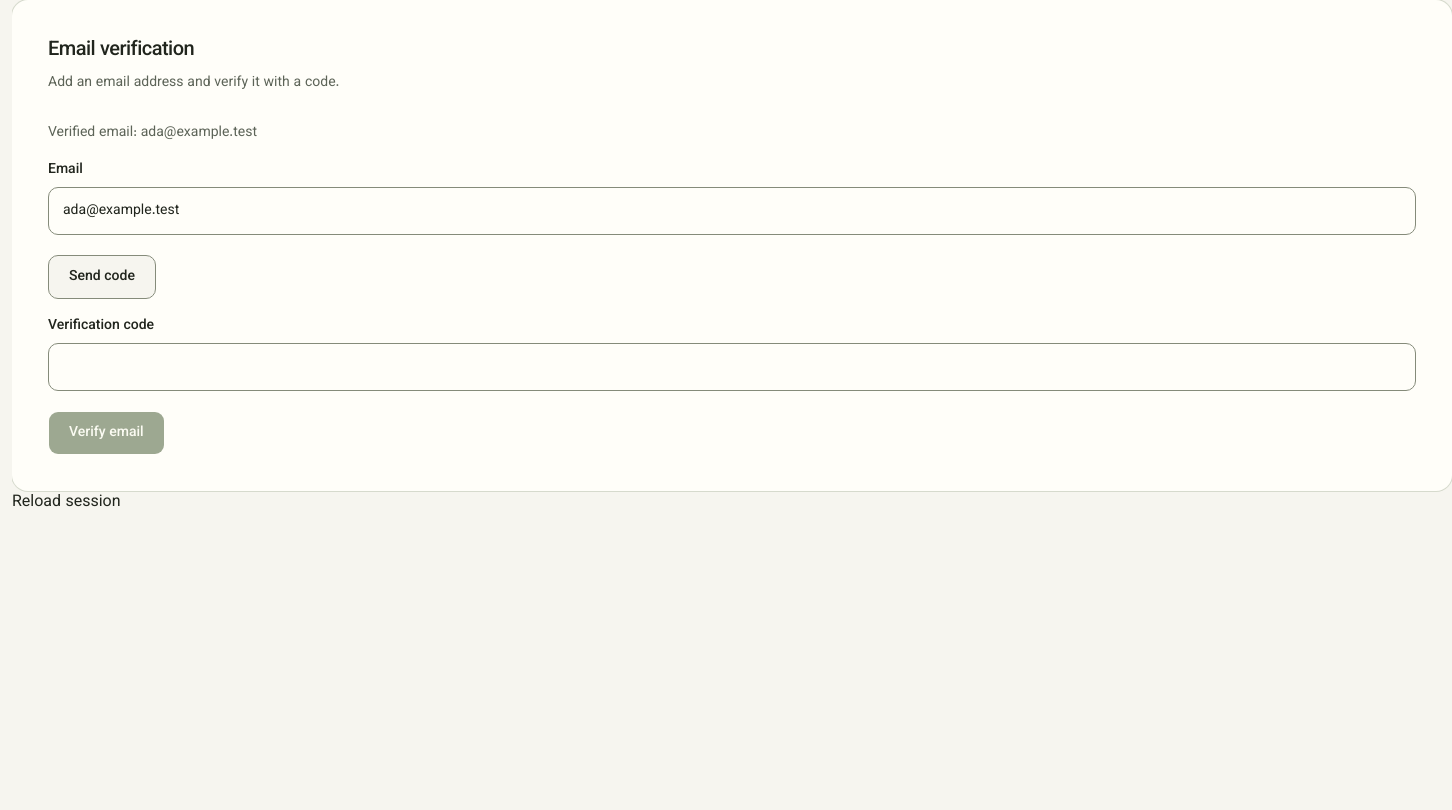
Test: email verification ownership › validates and normalizes its destination, normalizes OTP digits and reloads the accepted account
The width and height of the screenshot is (1452, 810).
Replace the text in the field labelled "Email" with "invalid" at coordinates (732, 211), box [48,187,1416,235]
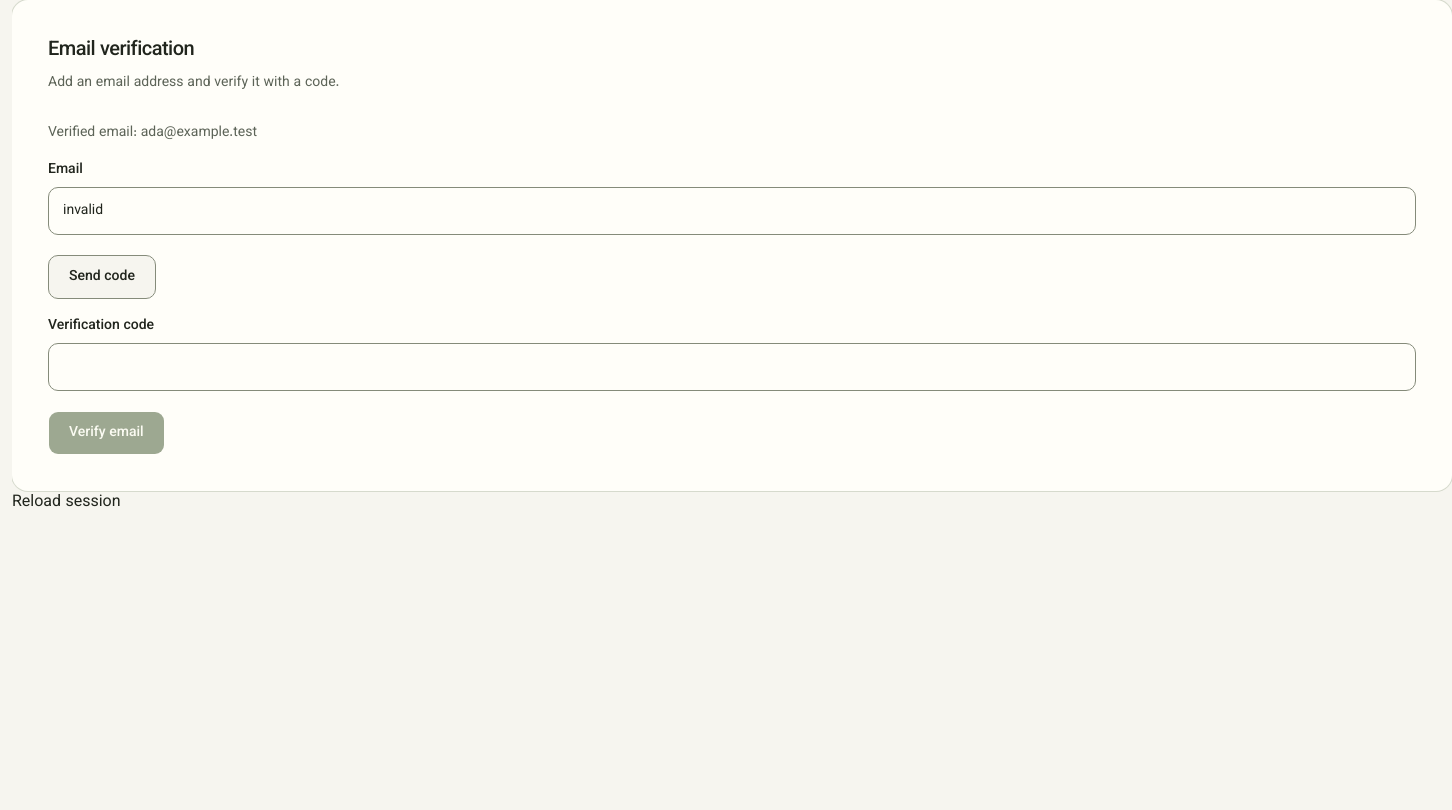
Click the button "Send code" at coordinates (102, 277), box [48,255,156,299]
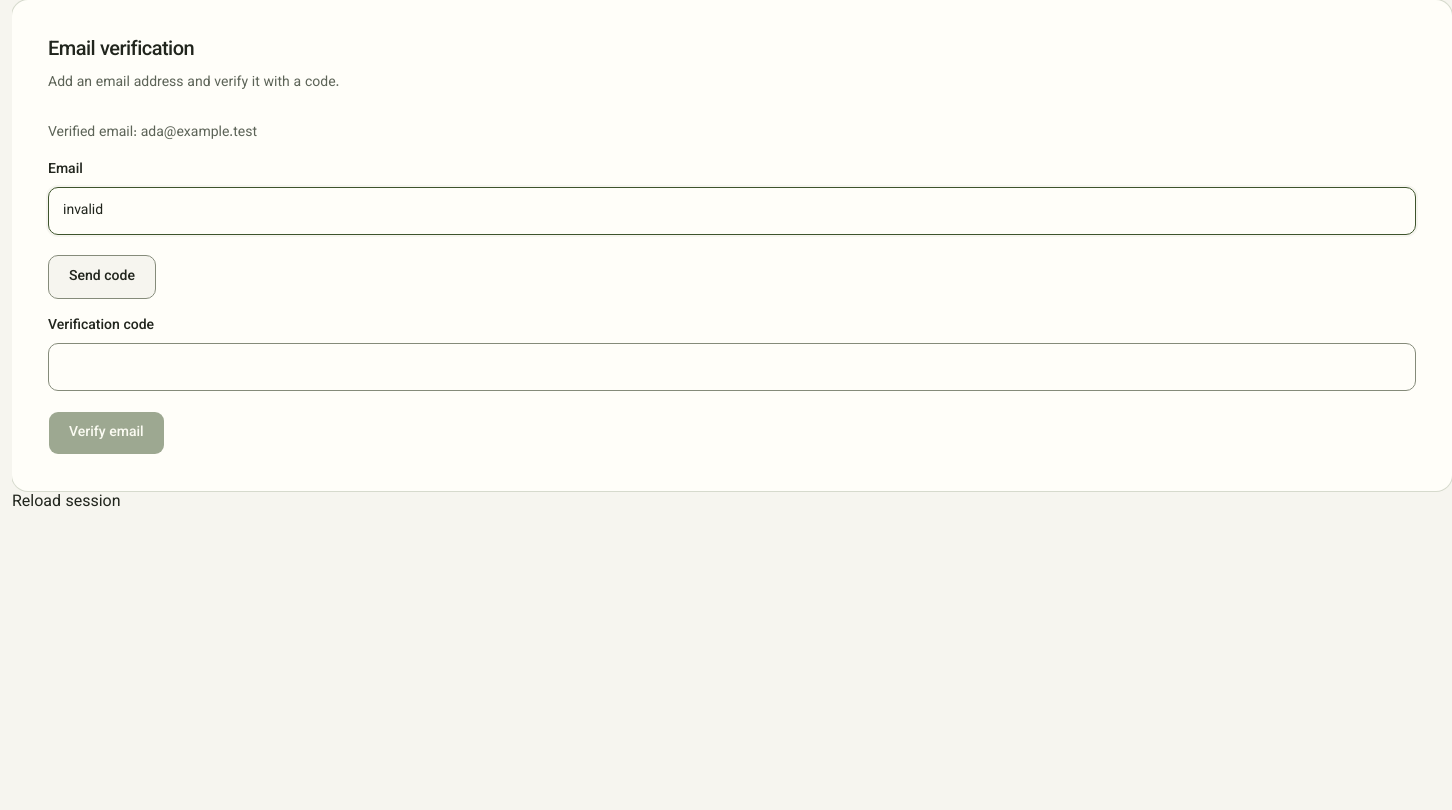
Replace the text in the field labelled "Email" with " New@Example.Test " at coordinates (732, 211), box [48,187,1416,235]
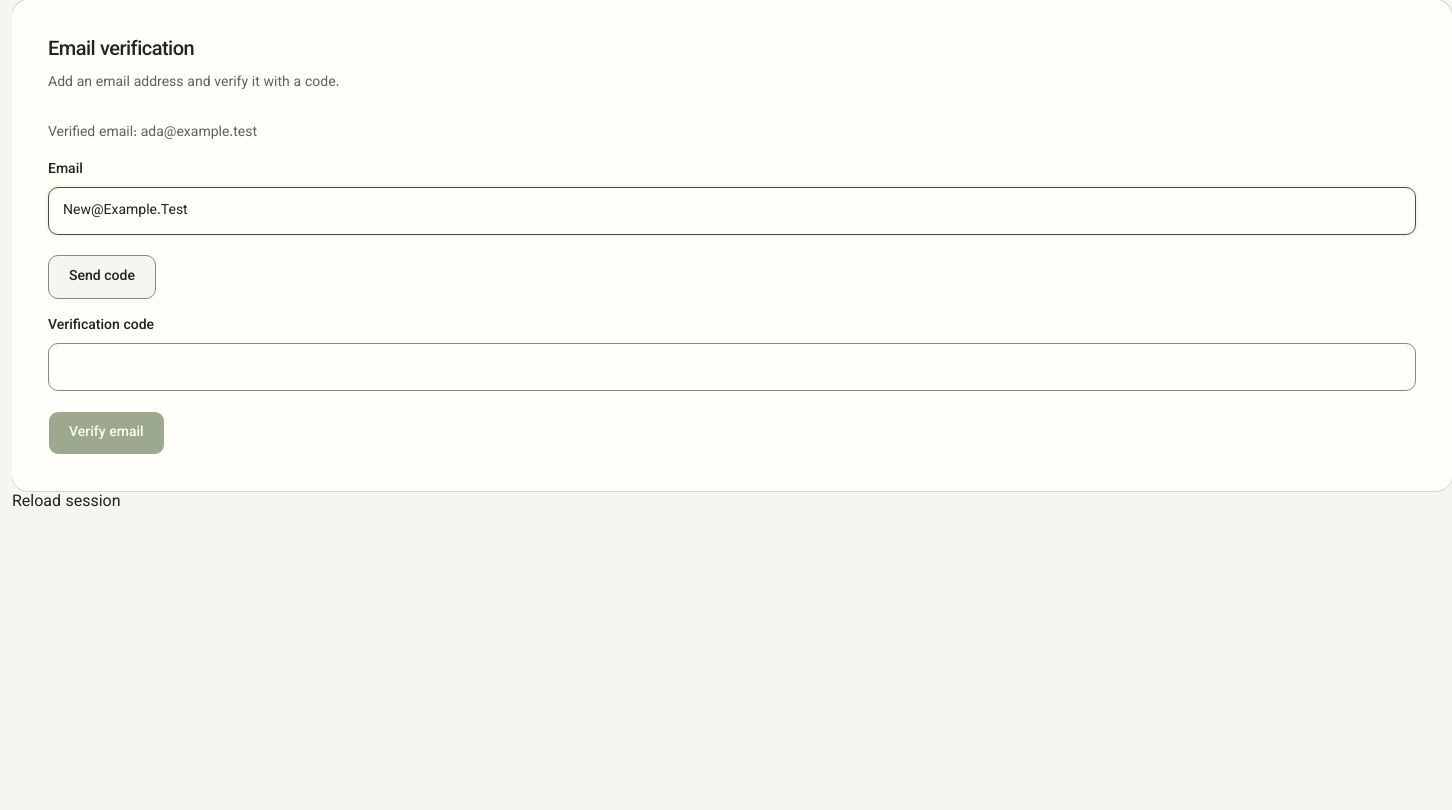
Click the button "Send code" at coordinates (102, 277), box [48,255,156,299]
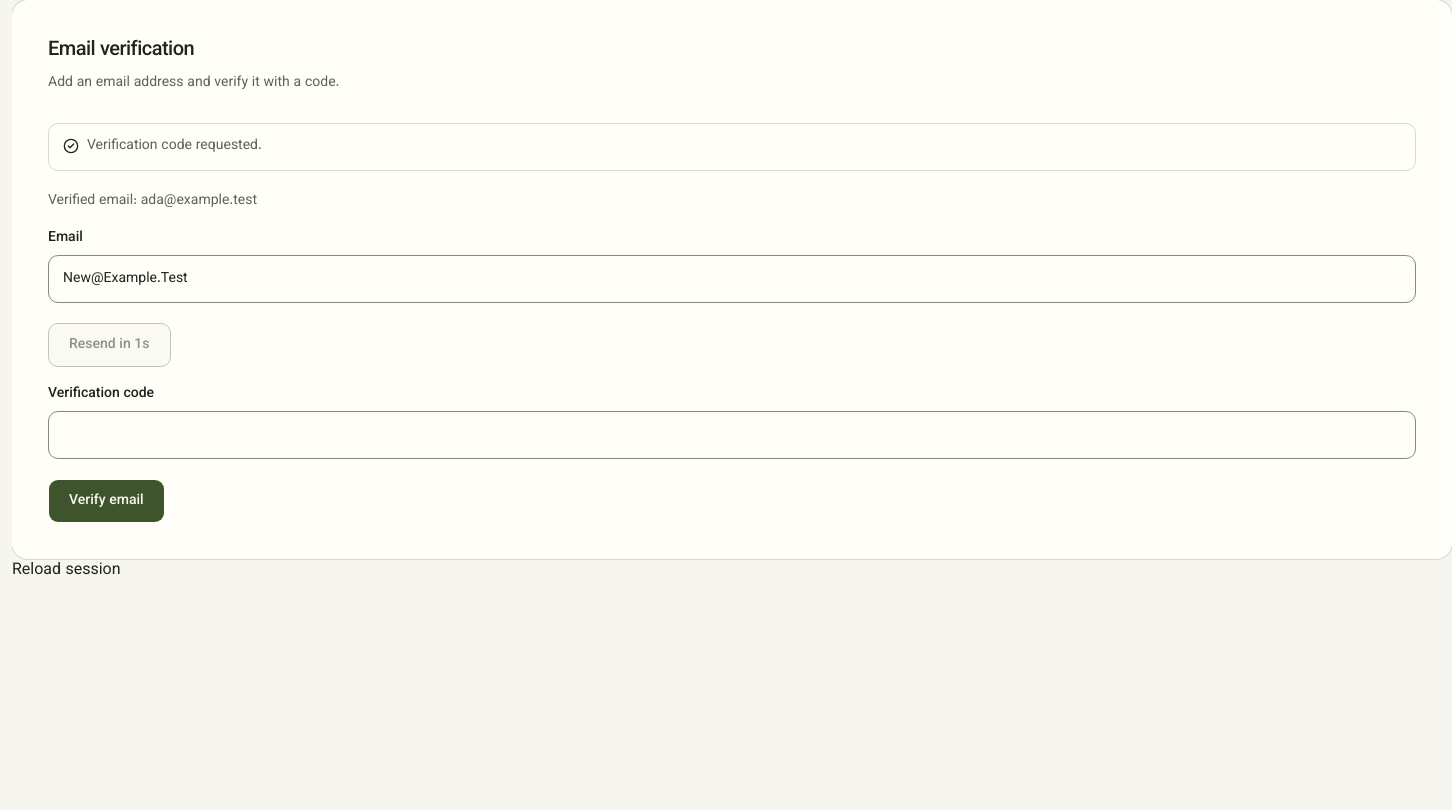
Expected: the text "Verification code requested." is shown, [87,135,262,157]
Expected: the button "Resend in 1s" is disabled, [48,323,170,367]
Type "۱۲٣۴۵۶" into the field labelled "Verification code" at coordinates (732, 435), box [48,411,1416,459]
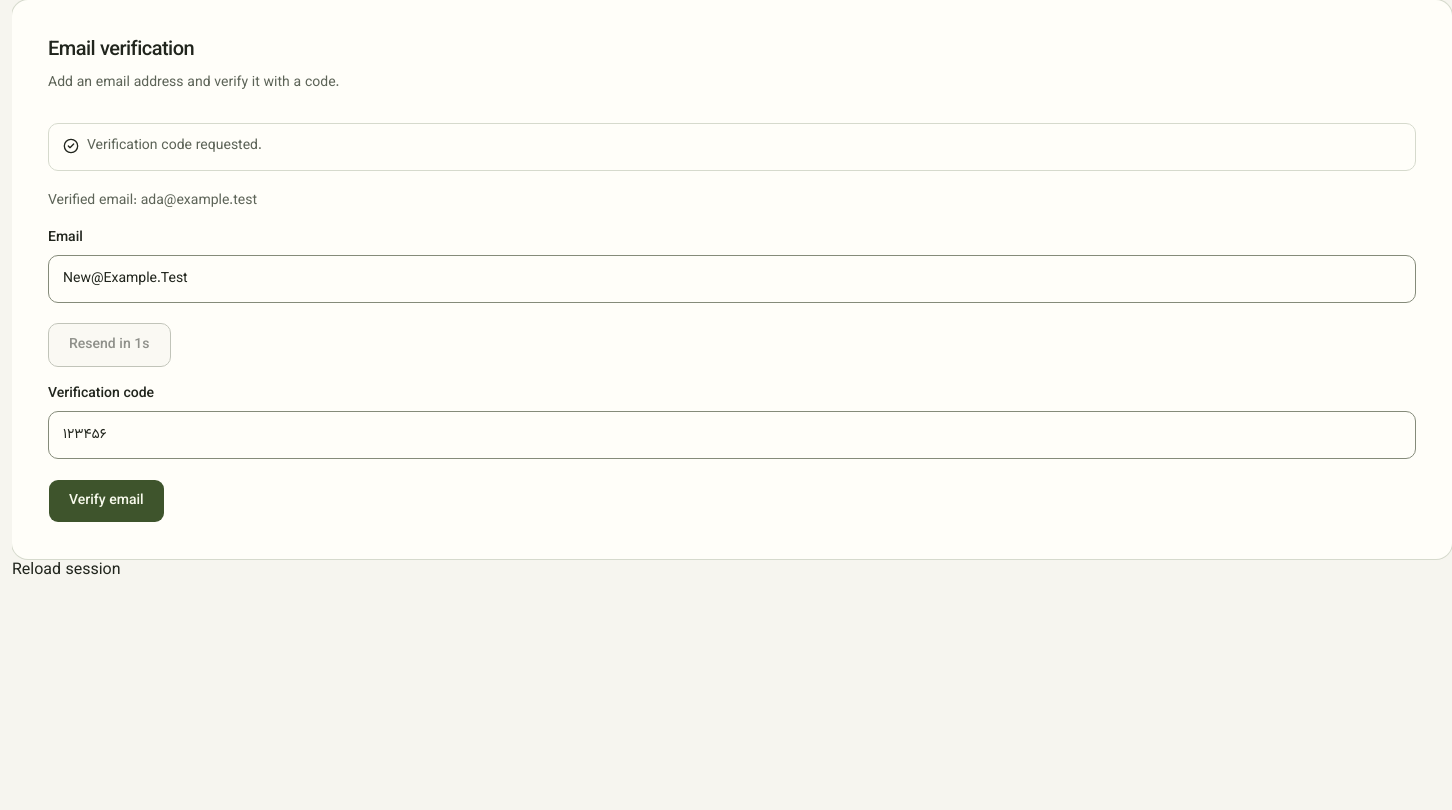
Click the button "Verify email" at coordinates (106, 501), box [48,479,165,523]
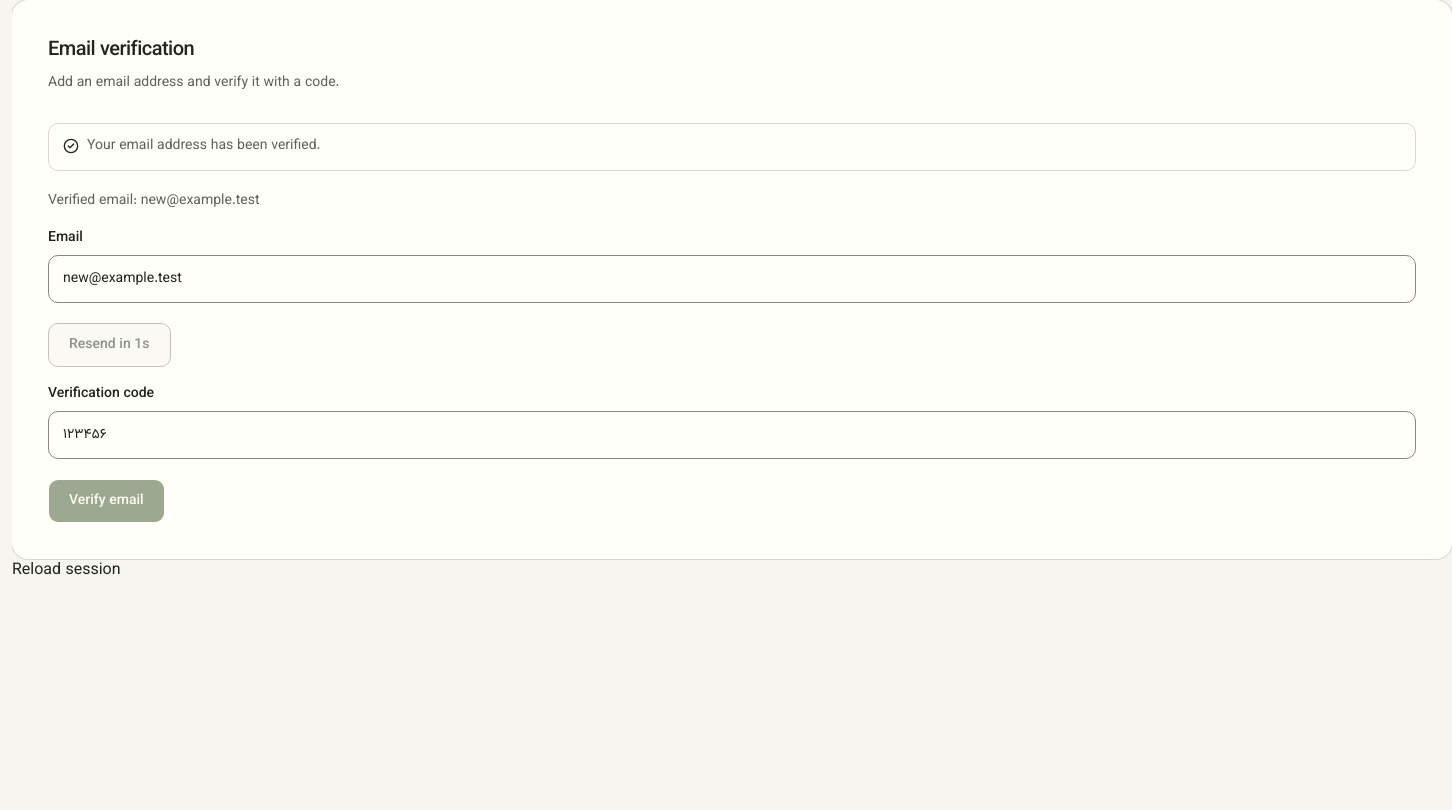
Expected: the text "Your email address has been verified." is shown, [87,135,320,157]
Expected: the text "Verified email: new@example.test" is shown, [48,190,260,212]
